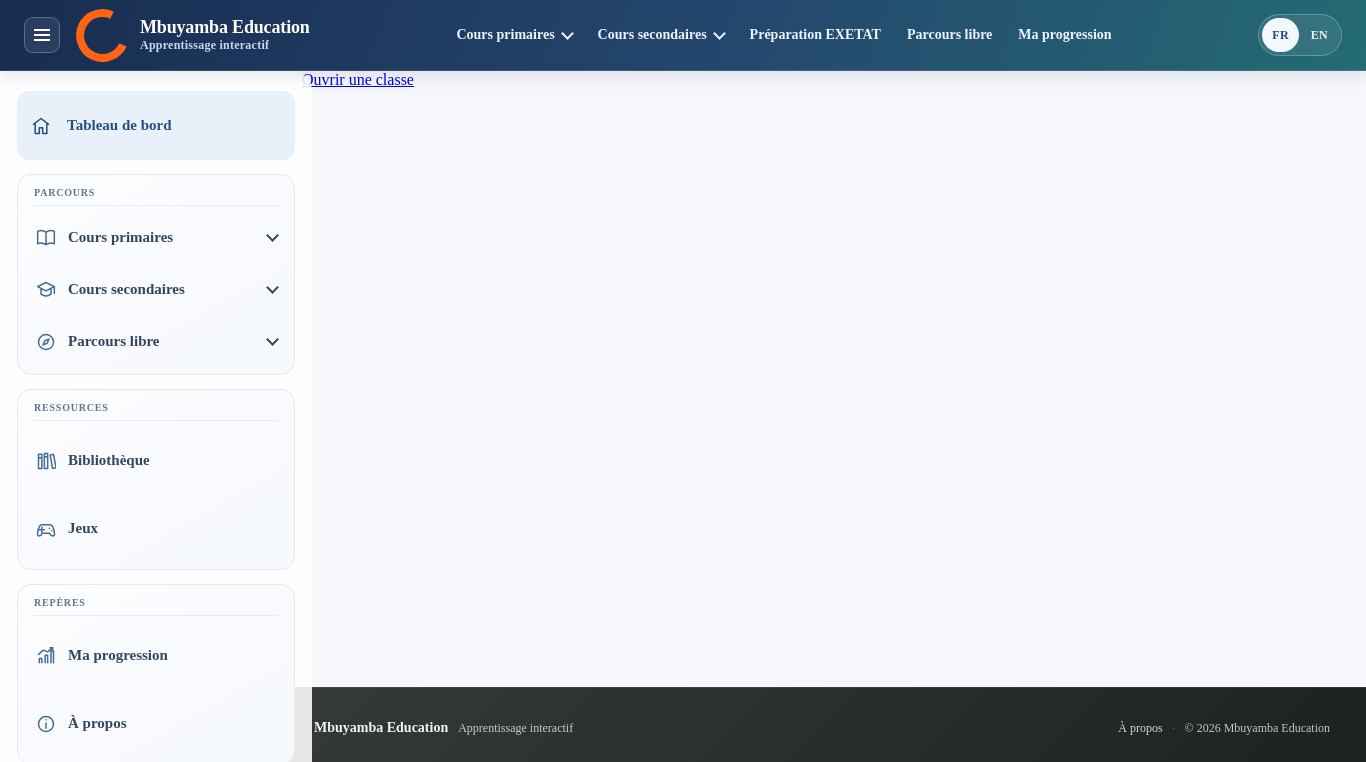
Navigation vers un cours primaire › reste fermé sur l'accueil puis se déplie à chaque nouvelle classe active
Click the link "Ouvrir une classe". click: (358, 80)
box: [302,71,414,88]
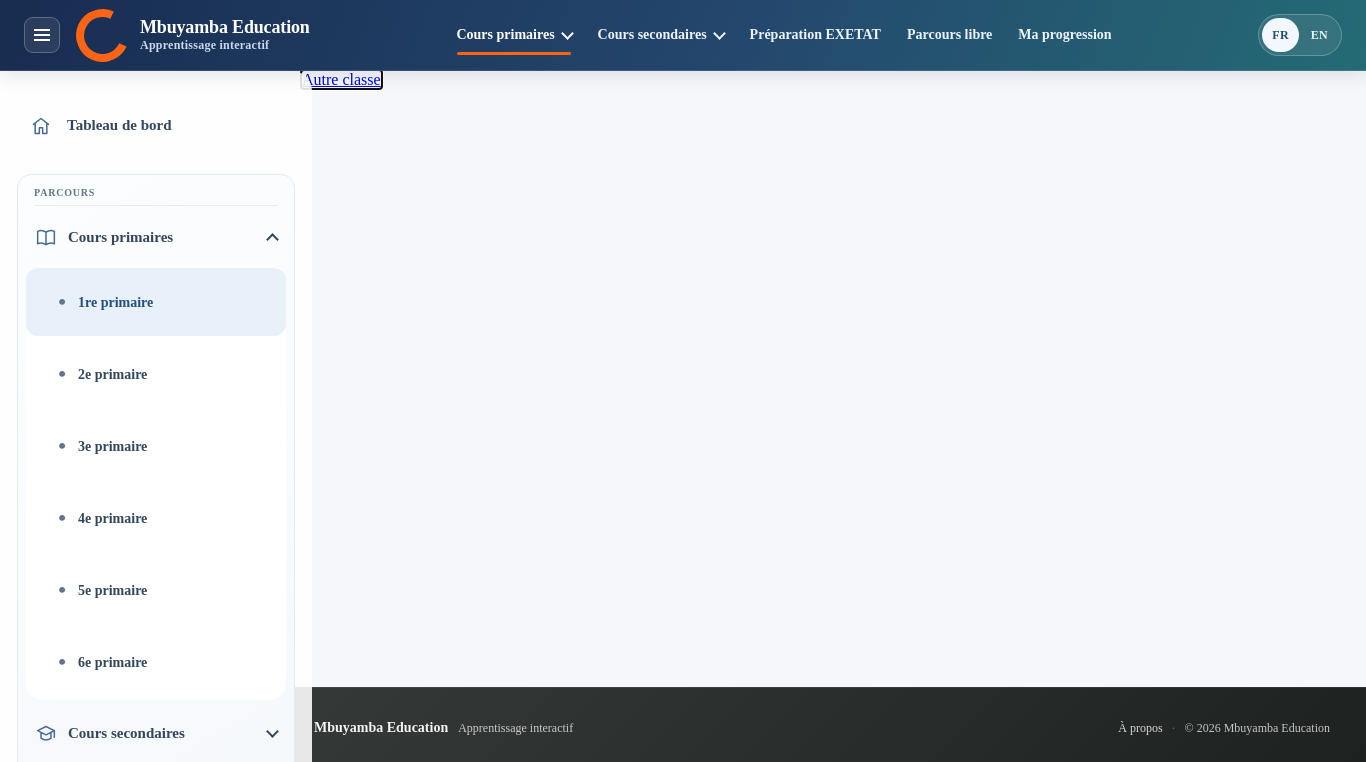
Check: the button with aria-label "Niveaux du primaire" is expanded
Click the button with aria-label "Niveaux du primaire". click: (156, 238)
box: [26,213,286,262]
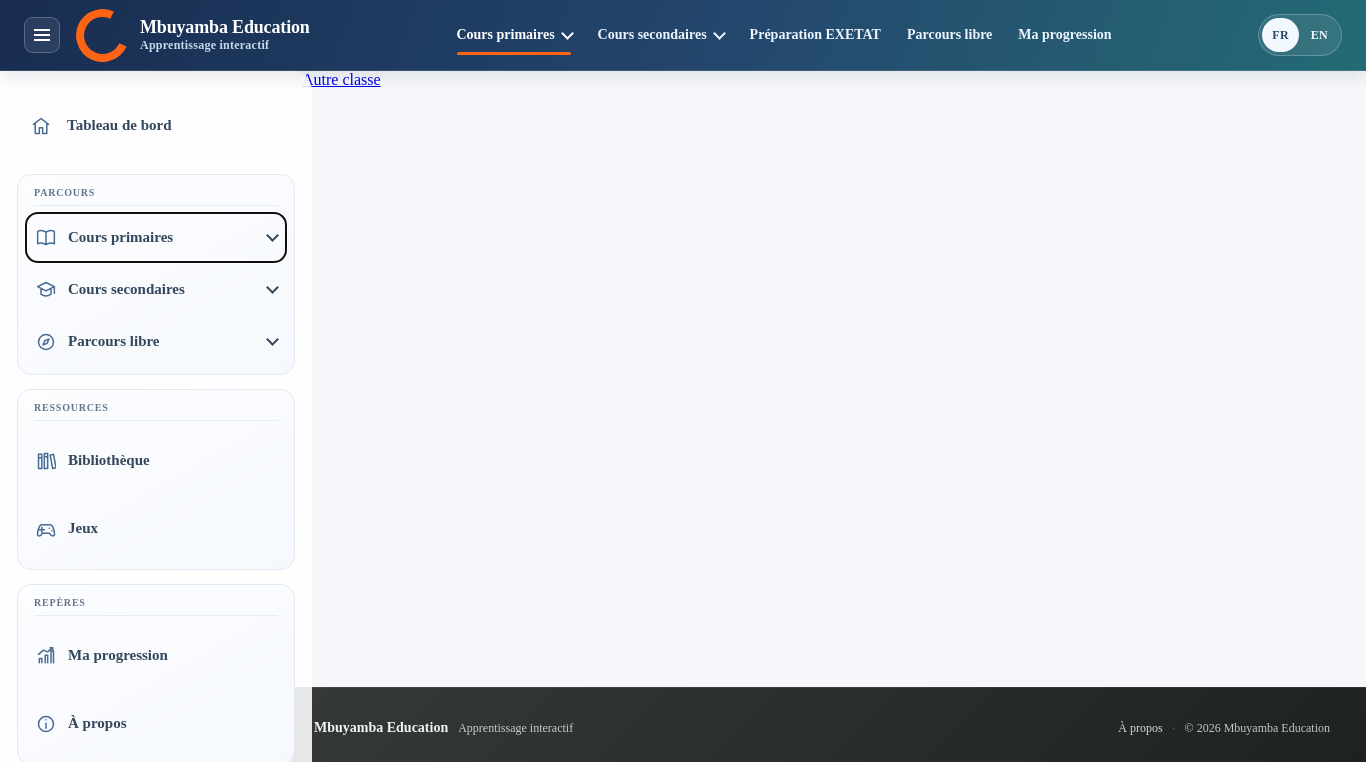
Check: the button with aria-label "Niveaux du primaire" is collapsed, box [26,213,286,262]
Click the link "Autre classe". click: (341, 80)
box: [302,71,381,88]
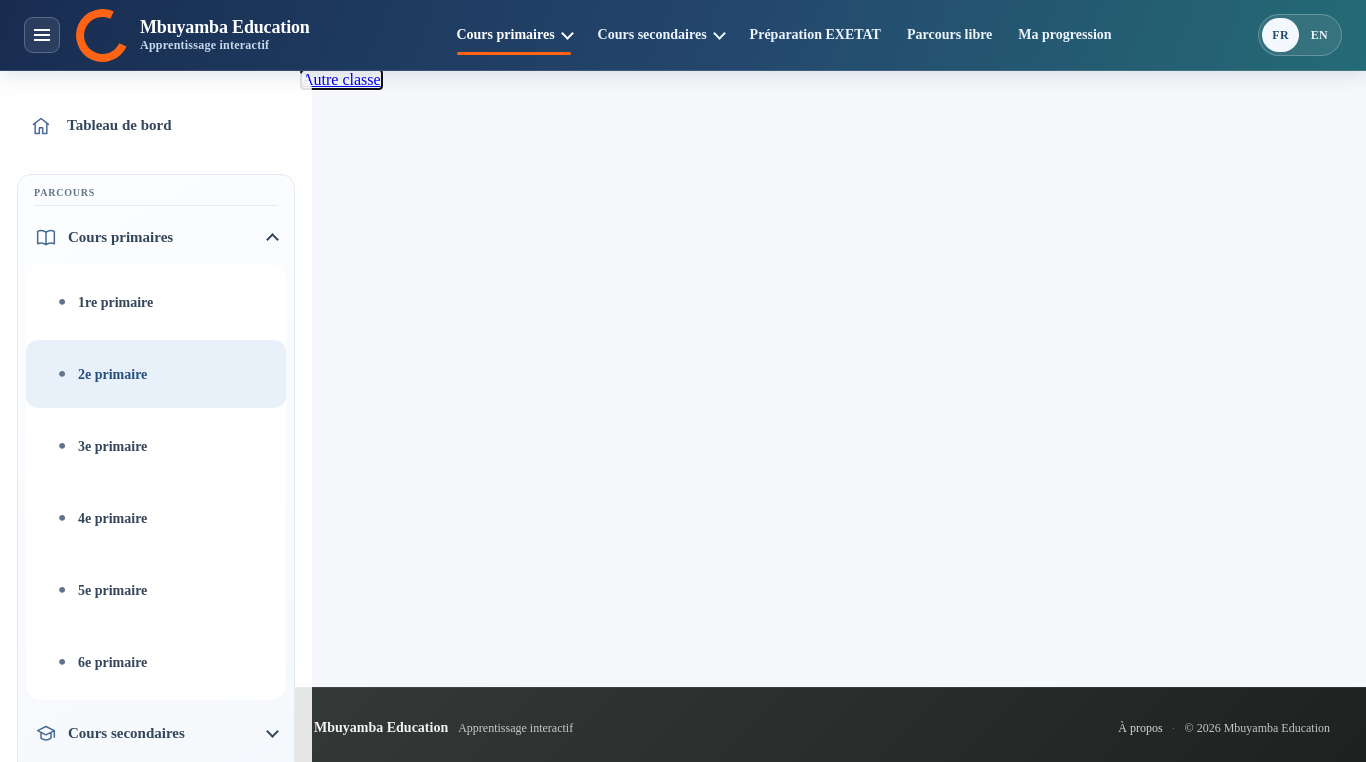
Check: the button with aria-label "Niveaux du primaire" is expanded, box [26,213,286,262]
